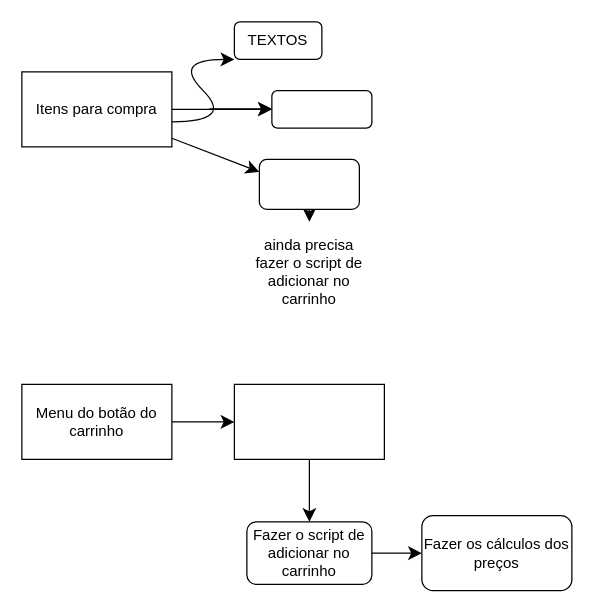
The diagram is 594 pixels wide and 613 high, and some of its shapes have lost their labels. The shapes that lost their labels are listed below. From the top down, each one's box as (x1, y1, x2, y2) in pixels, then its label:
(271, 89, 372, 128): IMAGENS
(258, 158, 359, 209): Botão de compra
(233, 383, 384, 459): Arrumar o menu com o css
